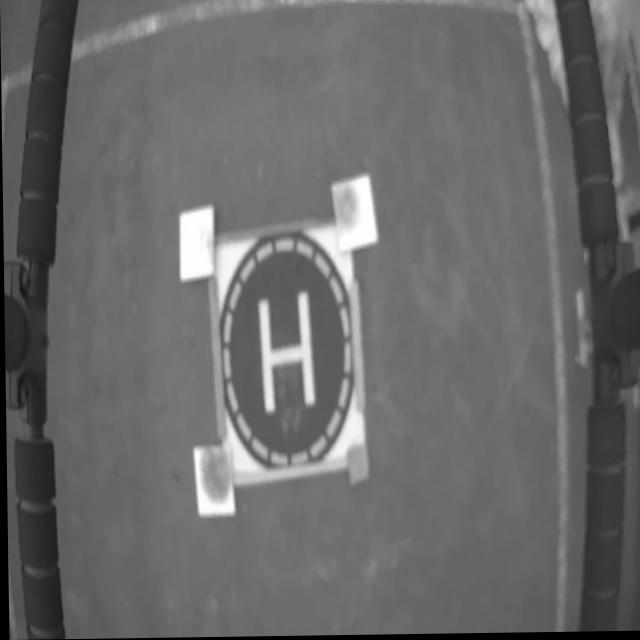Helipad: (257, 294, 315, 415)
